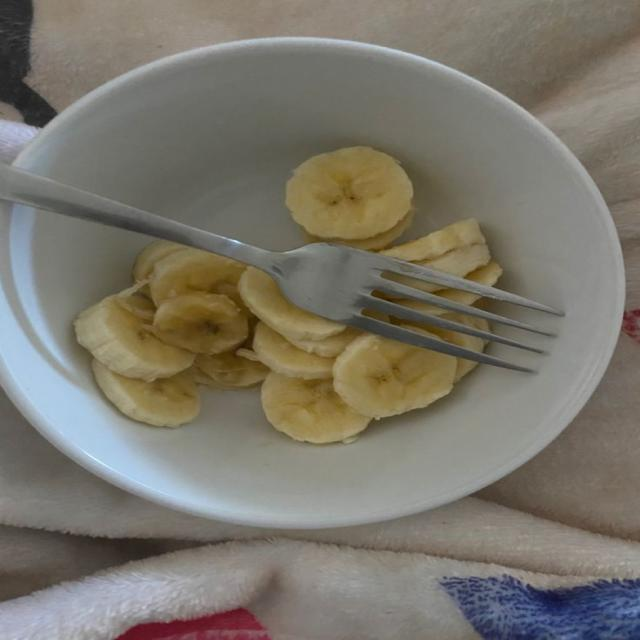banana slice: (286, 147, 413, 240), (334, 335, 456, 418), (74, 295, 193, 380), (261, 372, 370, 443), (239, 268, 345, 339), (93, 360, 199, 427), (153, 292, 248, 354), (150, 249, 246, 306), (380, 219, 486, 261), (254, 323, 333, 379), (307, 211, 413, 250), (196, 353, 268, 389), (416, 244, 490, 277), (285, 327, 362, 358), (287, 327, 361, 358), (133, 241, 186, 281), (420, 325, 486, 351), (117, 281, 155, 322), (394, 299, 450, 315)
